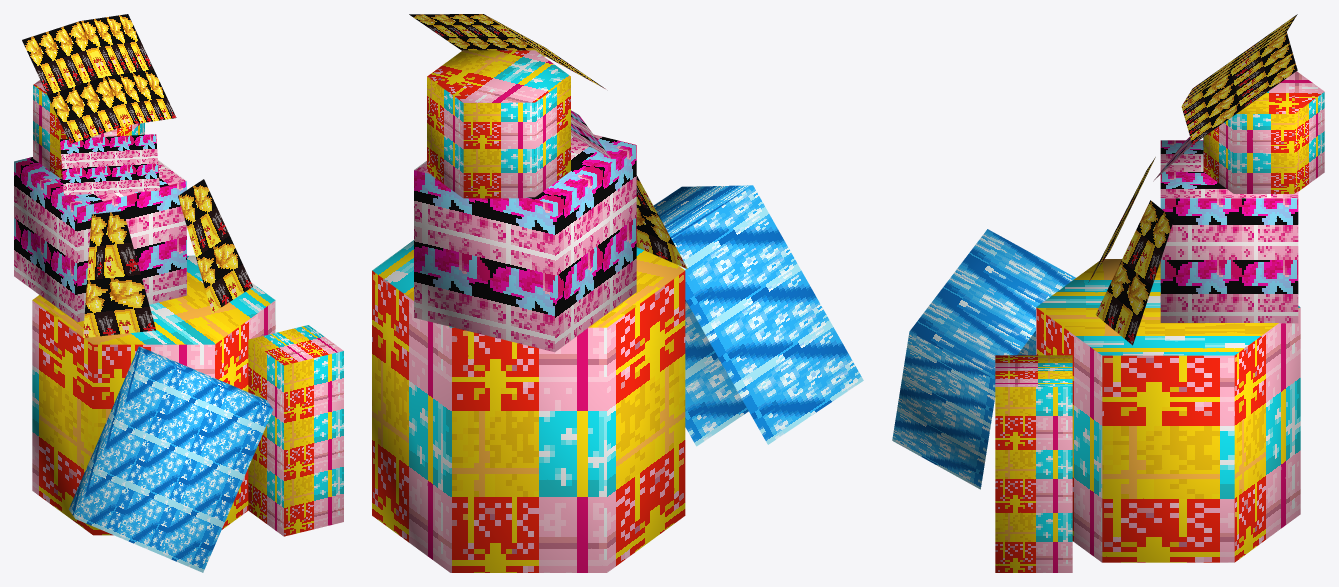
3 views of the same model, side by side, from view 1: azimuth 30°, elevation 25°; view 2: azimuth 150°, elevation 25°; view 3: azimuth 270°, elevation 25° (orthographic). The views are drawn at different scales.
Visible parts, largest first — view 1: 3214kg_sh2_06; view 2: 3214kg_sh2_06; view 3: 3214kg_sh2_06.
Boxes of the visible parts, x1=… form: 3214kg_sh2_06: x1=14, y1=14, x2=343, y2=572; 3214kg_sh2_06: x1=372, y1=14, x2=863, y2=572; 3214kg_sh2_06: x1=892, y1=14, x2=1324, y2=572.
Size of the model in its own units: 0.791 by 1.17 by 0.9744.
Materials: 4 (4 with a texture image).
